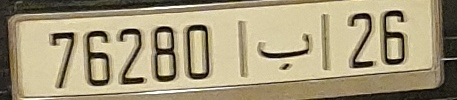0: (183, 23, 213, 81)
2: (116, 26, 147, 86), (345, 11, 376, 69)
6: (84, 30, 112, 87), (380, 9, 408, 66)
7: (48, 30, 77, 89)
8: (151, 25, 177, 82)
b: (257, 30, 314, 72)
